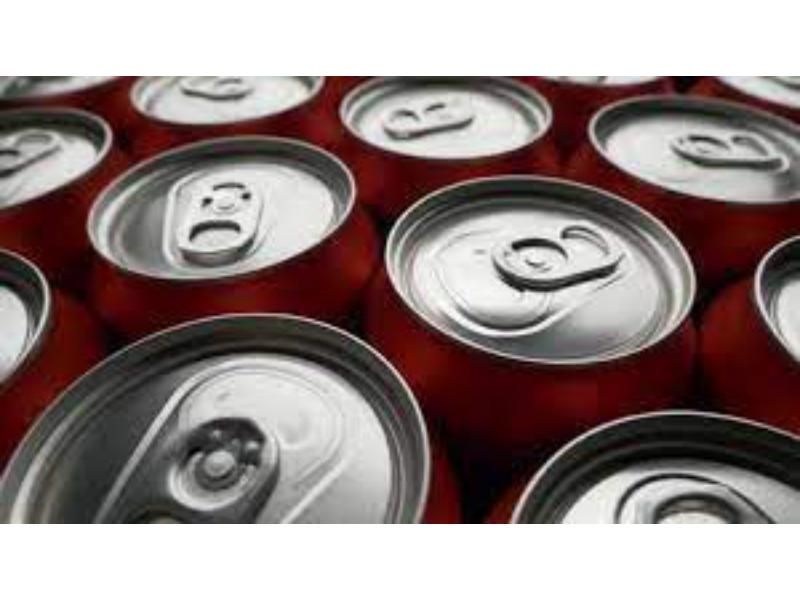can: (2, 307, 437, 525), (382, 174, 727, 362), (90, 132, 370, 288), (507, 405, 800, 522), (584, 89, 800, 211), (339, 77, 560, 168), (1, 102, 121, 202), (127, 75, 338, 126)
